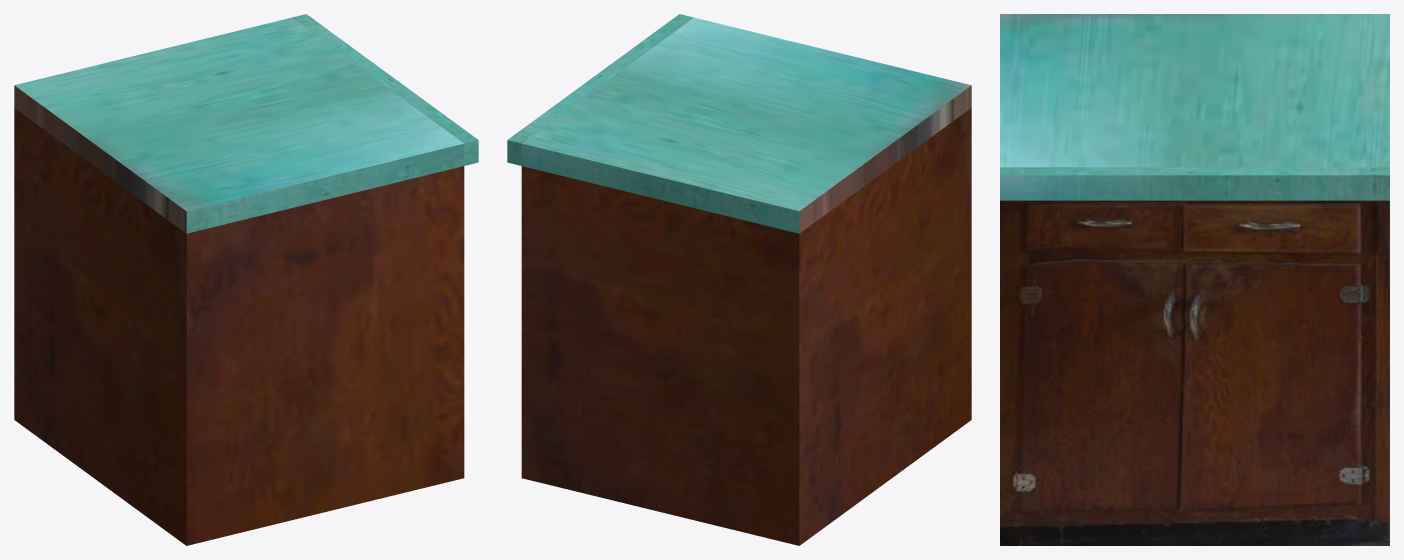
The model's file is cabinet.glb.
3 views of the same model, side by side, from view 1: azimuth 30°, elevation 25°; view 2: azimuth 150°, elevation 25°; view 3: azimuth 270°, elevation 25° (orthographic). The views are drawn at different scales.
Parts seen in each view (by area): view 1: Cube; view 2: Cube; view 3: Cube.
Boxes of the visible parts, bbox=[...] form: Cube: bbox=[14, 14, 478, 545]; Cube: bbox=[507, 14, 971, 545]; Cube: bbox=[1000, 14, 1389, 545].
Size of what is drawn, in the model's own units: 0.9155 by 1 by 0.9349.
Materials: 1 (1 with a texture image).
